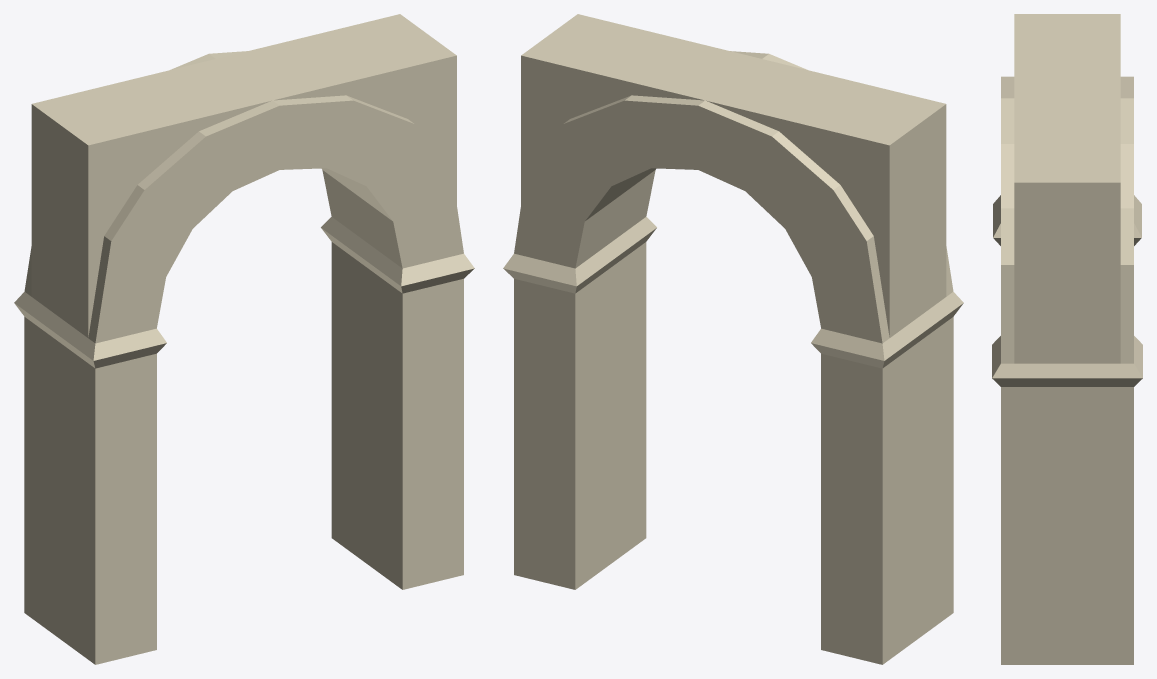
File: roman_arch_tall.fbx
3 views of the same model, side by side, from view 1: azimuth 30°, elevation 25°; view 2: azimuth 150°, elevation 25°; view 3: azimuth 270°, elevation 25° (orthographic). The views are drawn at different scales.
Visible parts, largest first — view 1: Circle, Circle.001; view 2: Circle, Circle.001; view 3: Circle, Circle.001.
Part boxes in pixels (<box>): Circle: <box>14,51,474,664</box>; Circle.001: <box>31,14,456,337</box>; Circle: <box>503,51,963,664</box>; Circle.001: <box>521,14,946,337</box>; Circle: <box>992,76,1142,664</box>; Circle.001: <box>1014,14,1120,363</box>.
Size of the model in its own units: 3.1 by 4 by 1.13.
